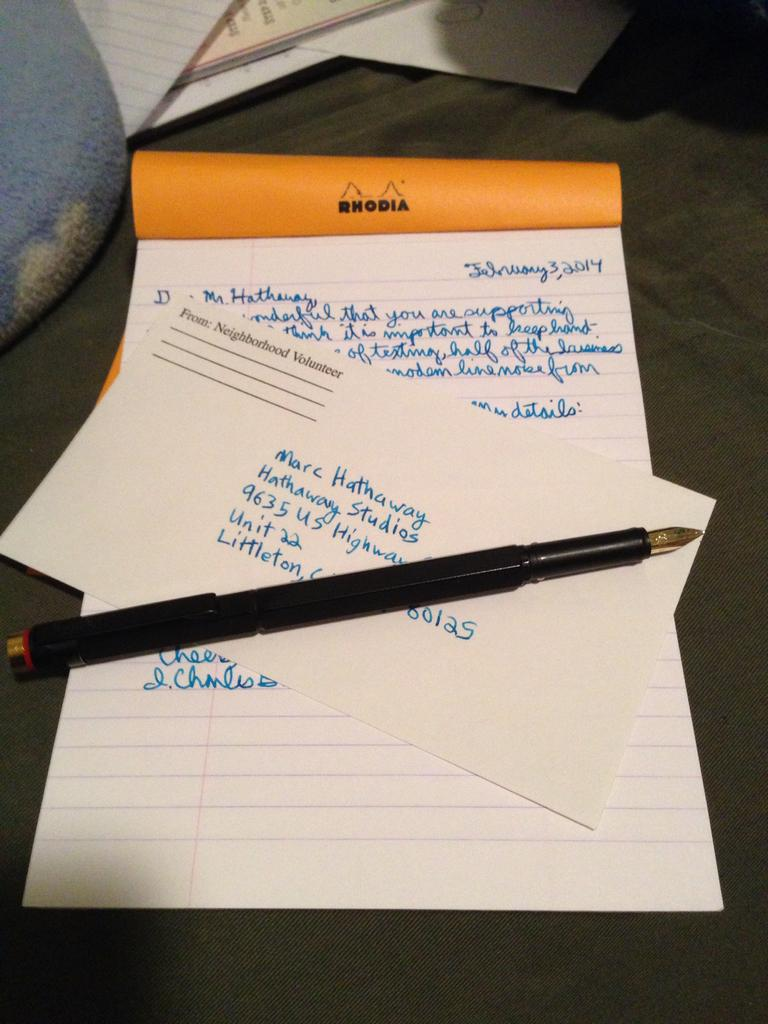pen: (0, 534, 726, 674)
